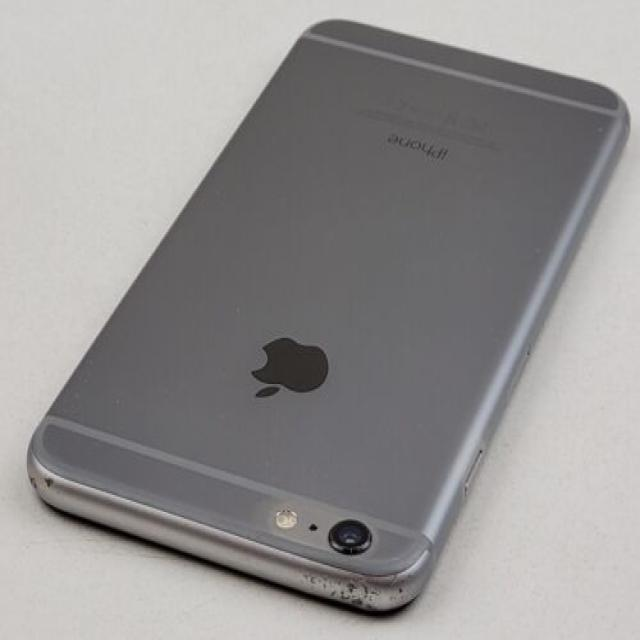Dents: (297, 575, 371, 616), (365, 583, 412, 613), (40, 477, 62, 500)
